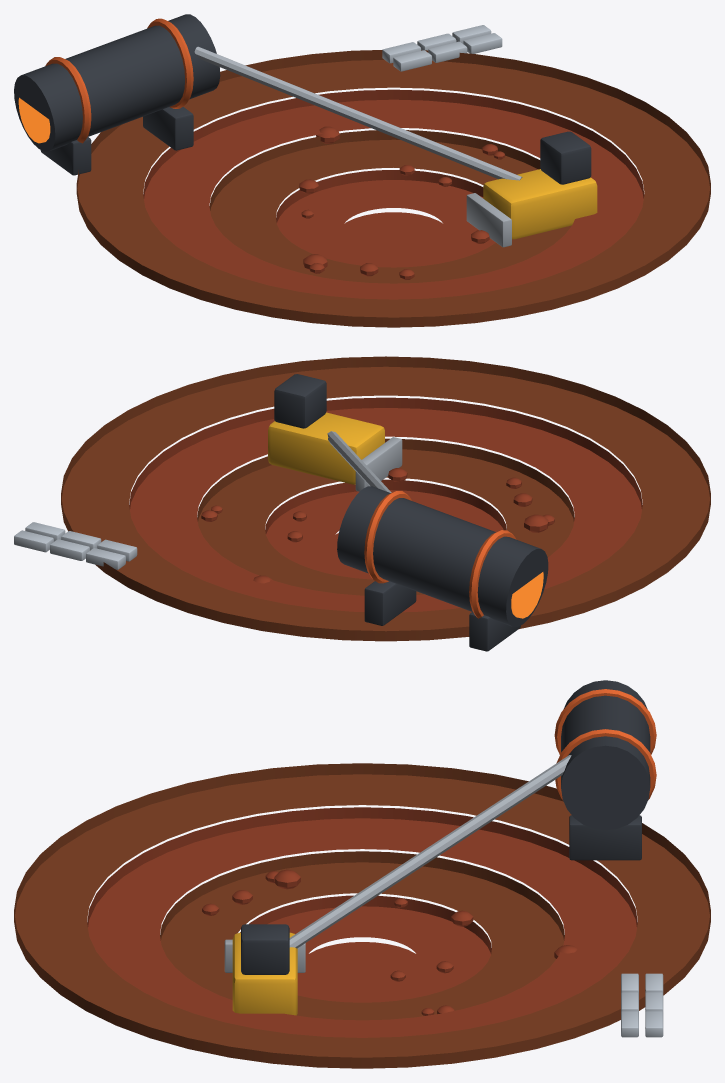
Rendered from strip_mine.glb.
3 renders of one model, top to bottom at view 1: azimuth 30°, elevation 25°; view 2: azimuth 150°, elevation 25°; view 3: azimuth 270°, elevation 25°, orthographic. The views are drawn at different scales.
Visible parts, largest first — view 1: strip_mine; view 2: strip_mine; view 3: strip_mine.
Boxes of the visible parts, <box> form: strip_mine: <box>14,14,710,327</box>; strip_mine: <box>14,356,710,651</box>; strip_mine: <box>14,680,710,1068</box>.
Size of the model in its own units: 8.6 by 2.48 by 8.6.
